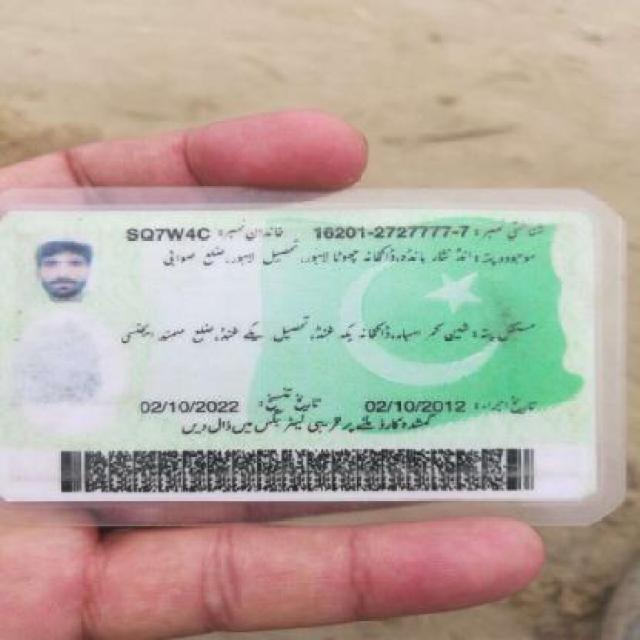Back: (8, 197, 614, 517)
